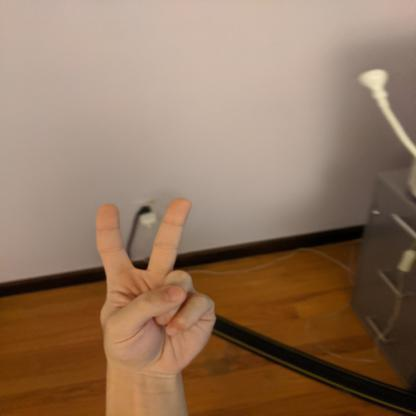V: (91, 195, 221, 376)
